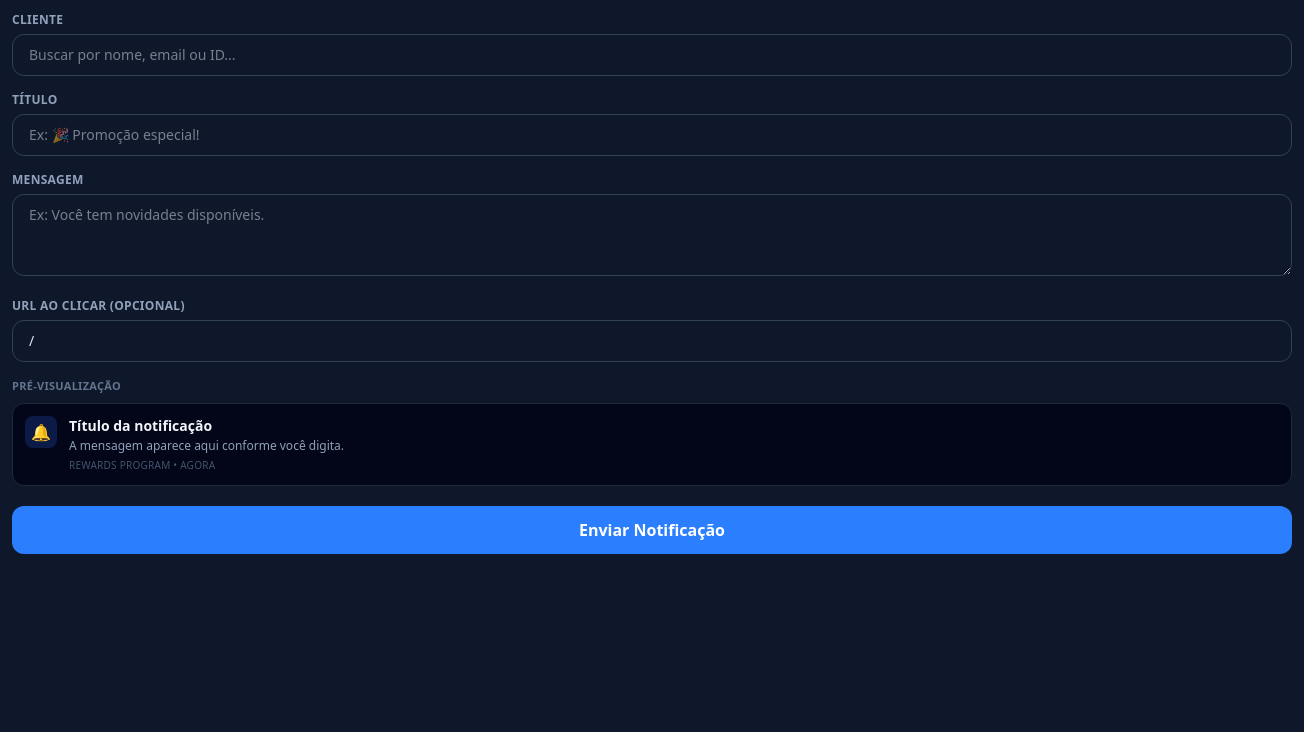
IndividualTab › busca, seleciona um cliente e envia com o payload esperado
Type "joao" into the field with placeholder "Buscar por nome, email ou ID...".
click(652, 55); type("joao")  # box [12, 34, 1292, 76]
Wait 300 ms
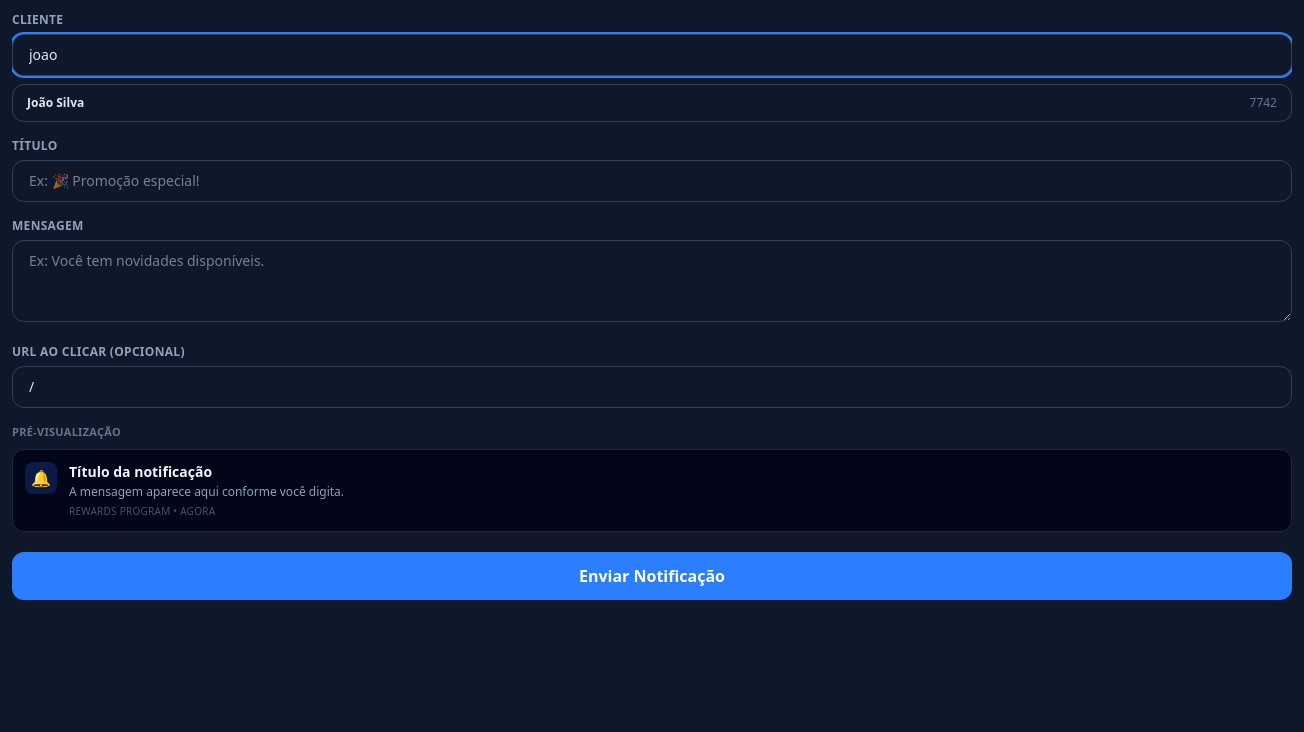
Click the text "João Silva".
click(56, 103)  # box [27, 95, 84, 111]
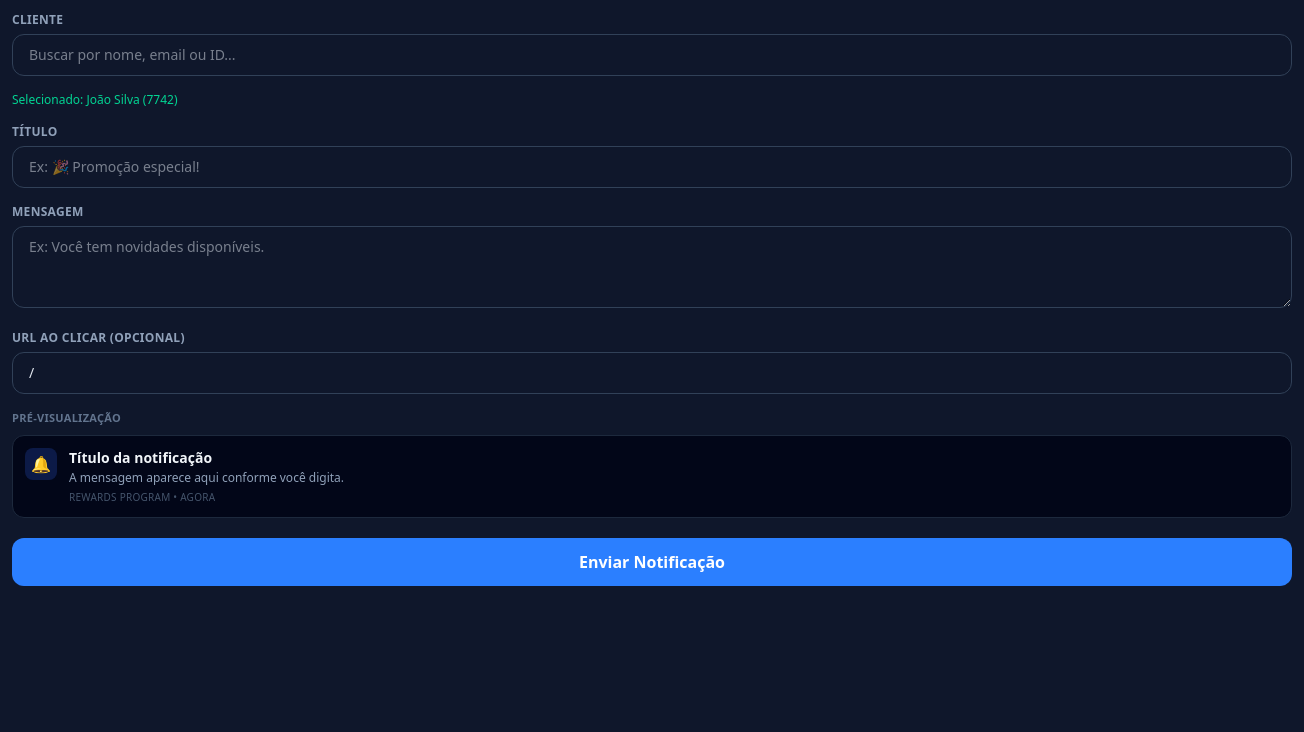
Type "Oi" into the field with placeholder "Ex: 🎉 Promoção especial!".
click(652, 167); type("Oi")  # box [12, 146, 1292, 188]
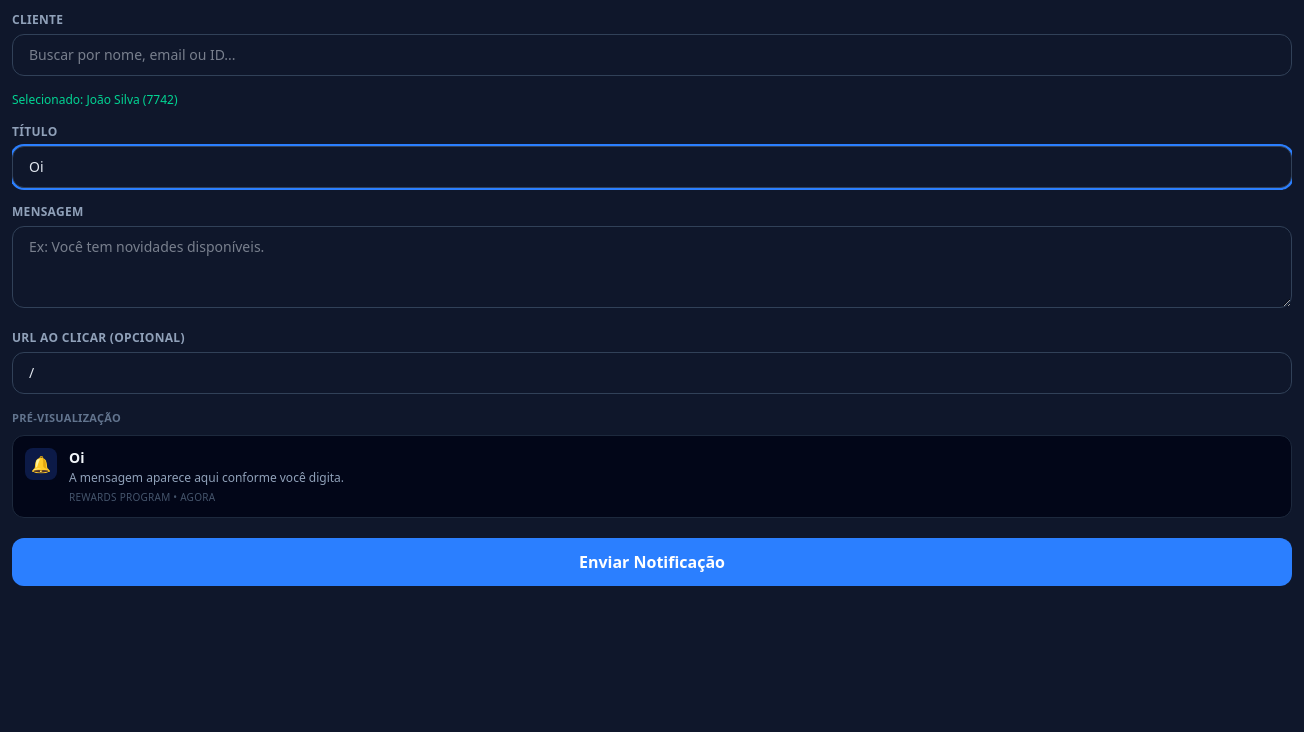
Type "Mensagem teste" into the text box with placeholder "Ex: Você tem novidades disponíveis.".
click(652, 267); type("Mensagem teste")  # box [12, 226, 1292, 308]
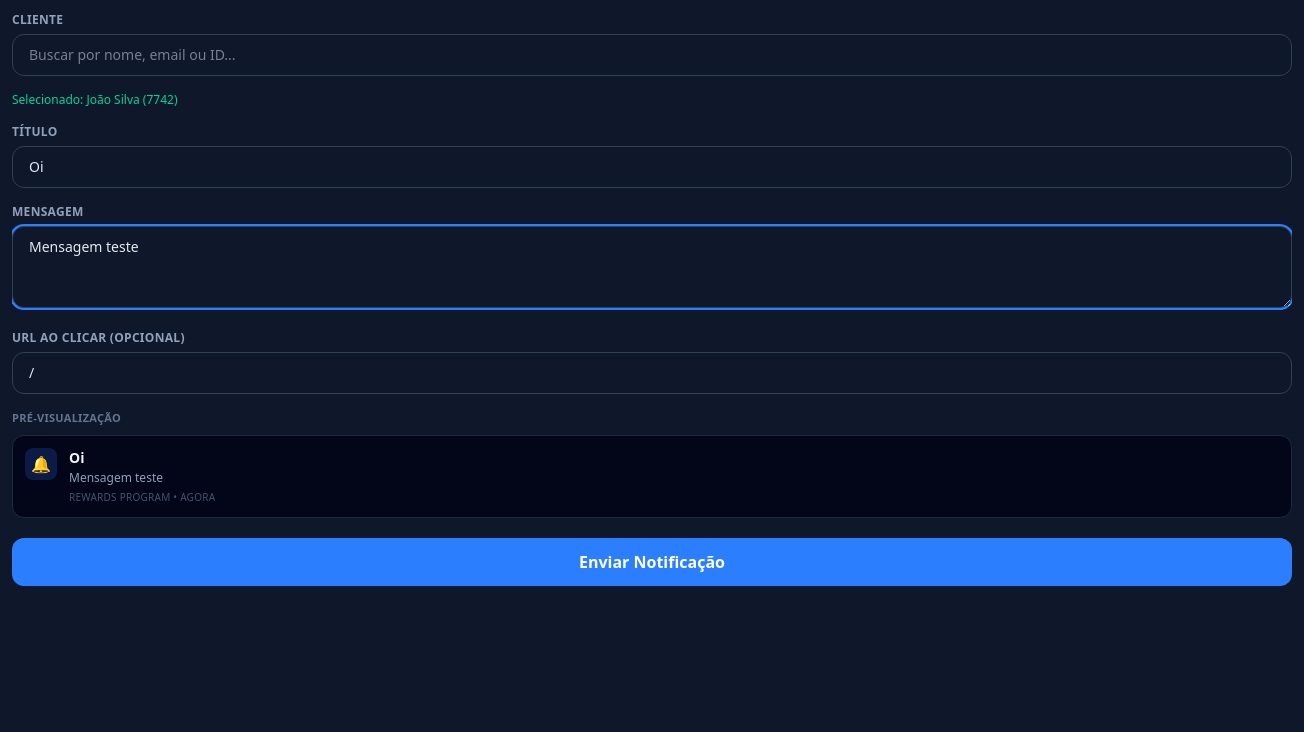
Click the button "Enviar Notificação".
click(652, 562)  # box [12, 538, 1292, 586]
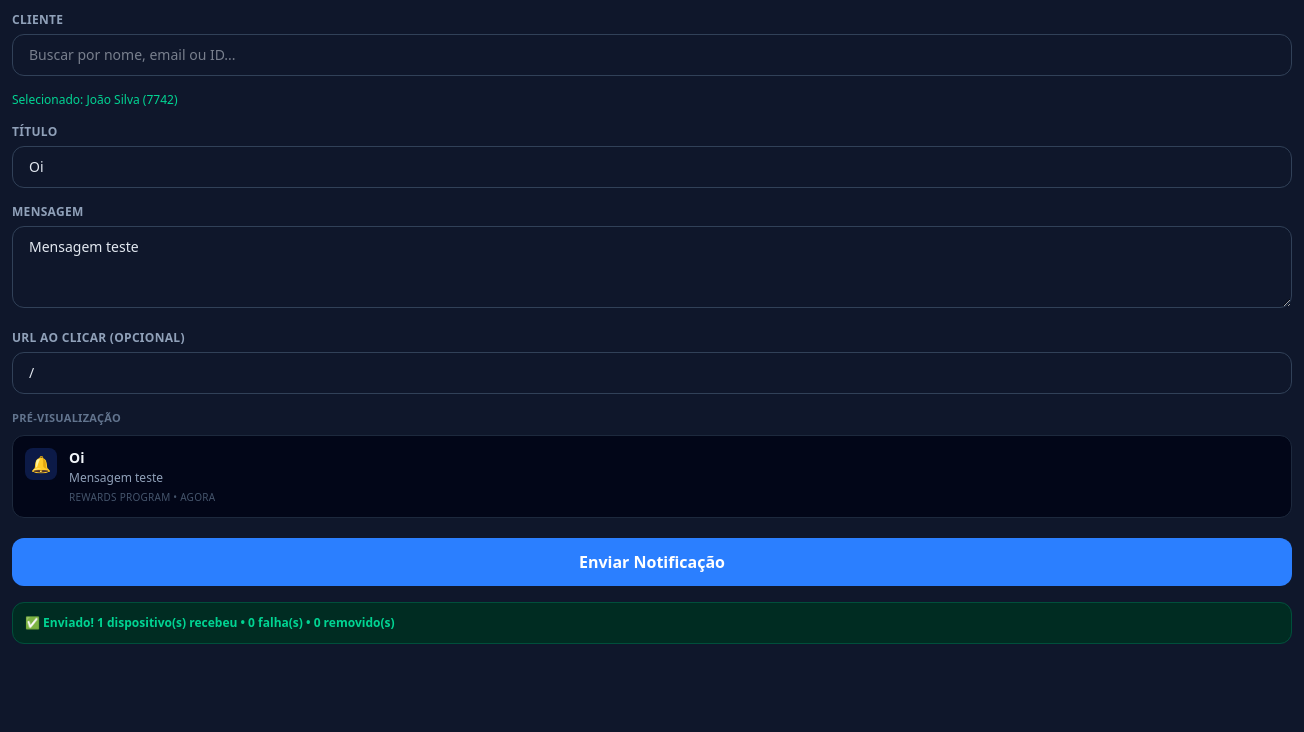
Result: the text "1 dispositivo(s) recebeu" is shown at [25, 614, 394, 630]
